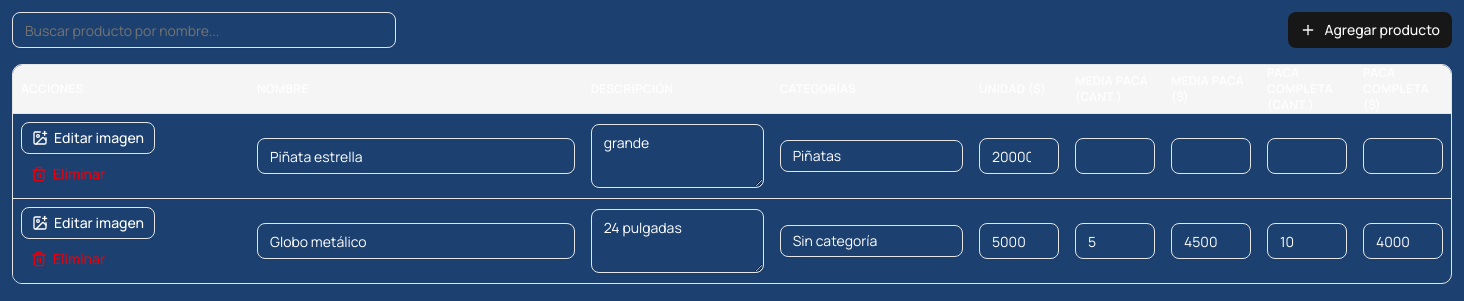
it: ProductEditorTable › shows an empty state when no product matches
Type "no existe" into the search field labelled "Buscar producto".
click(204, 30); type("no existe")  # box [12, 12, 396, 48]
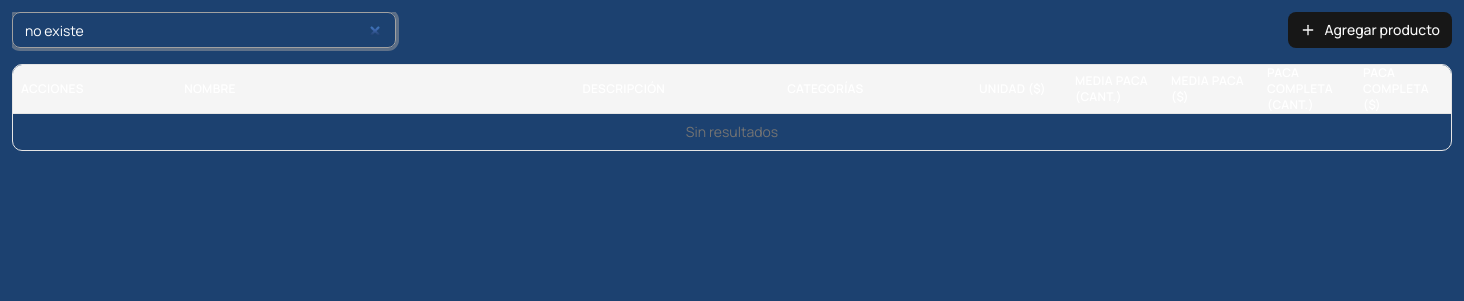
Check: the text "Sin resultados" is shown, box [13, 114, 1451, 150]
